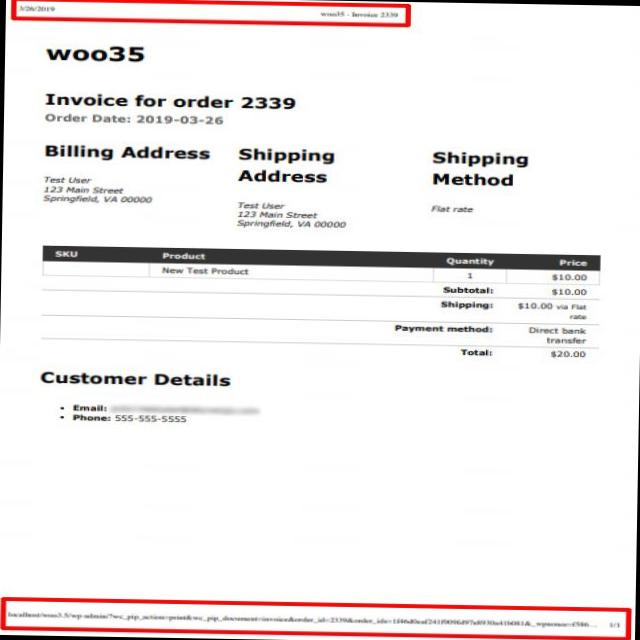customer_address: (235, 208, 350, 230), (41, 184, 156, 206)
customer_name: (42, 174, 96, 184), (234, 198, 287, 208)
invoice_date: (132, 110, 228, 126)
invoice_subtotal: (548, 286, 590, 300)
invoice_total: (546, 346, 586, 359)
item_description: (153, 265, 257, 280)
item_quantity: (458, 269, 479, 283)
item_total_price: (548, 268, 590, 285)
supplier_name: (40, 40, 148, 65)
